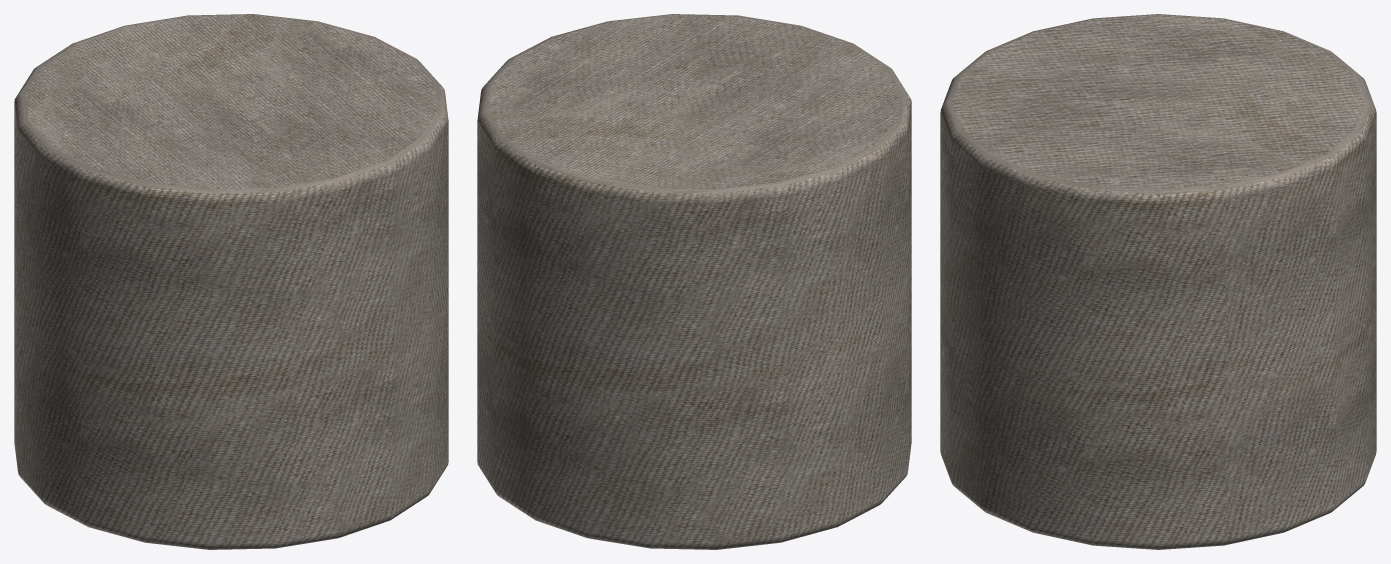
File: Vanadis rund sittgrej.fbx
3 views of the same model, side by side, from view 1: azimuth 30°, elevation 25°; view 2: azimuth 150°, elevation 25°; view 3: azimuth 270°, elevation 25° (orthographic).
Visible parts, largest first — view 1: pCylinder1; view 2: pCylinder1; view 3: pCylinder1.
Boxes of the visible parts, x1,y1,x2,y2 form: pCylinder1: (14, 14, 448, 549); pCylinder1: (477, 14, 911, 549); pCylinder1: (940, 14, 1376, 549).
Size of the model in its own units: 0.43 by 0.3909 by 0.43.
Materials: 1 (1 with a texture image).
